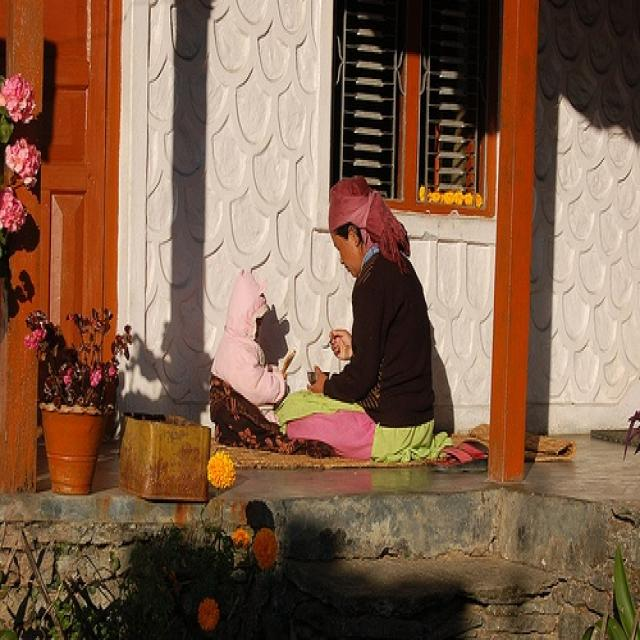person: (281, 177, 444, 466), (210, 273, 290, 421)
pottedplant: (24, 296, 138, 506)
